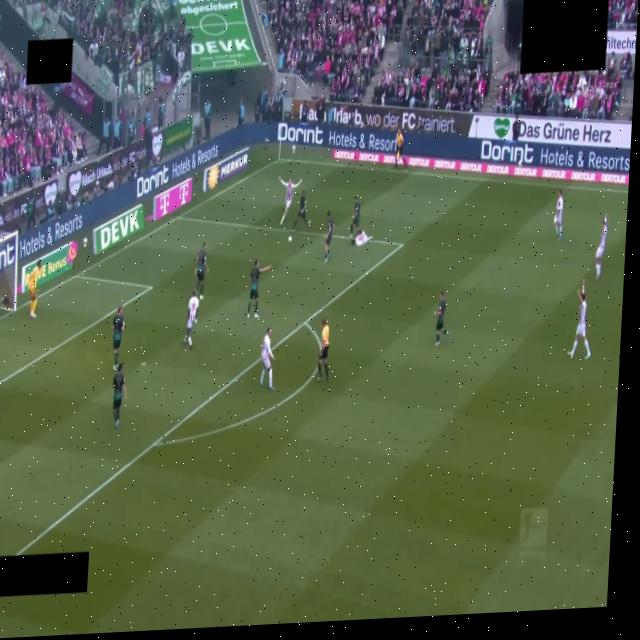ball: (288, 236, 292, 241)
player: (568, 281, 590, 359), (247, 260, 270, 318), (279, 177, 302, 224), (260, 328, 275, 390), (184, 290, 199, 349), (113, 363, 126, 428), (595, 215, 607, 278), (434, 291, 448, 345), (293, 191, 311, 231), (113, 306, 124, 369), (28, 261, 40, 318), (196, 244, 208, 300), (324, 211, 334, 262), (554, 190, 563, 239), (350, 197, 360, 237), (351, 230, 372, 246)
referee: (317, 319, 329, 381)
